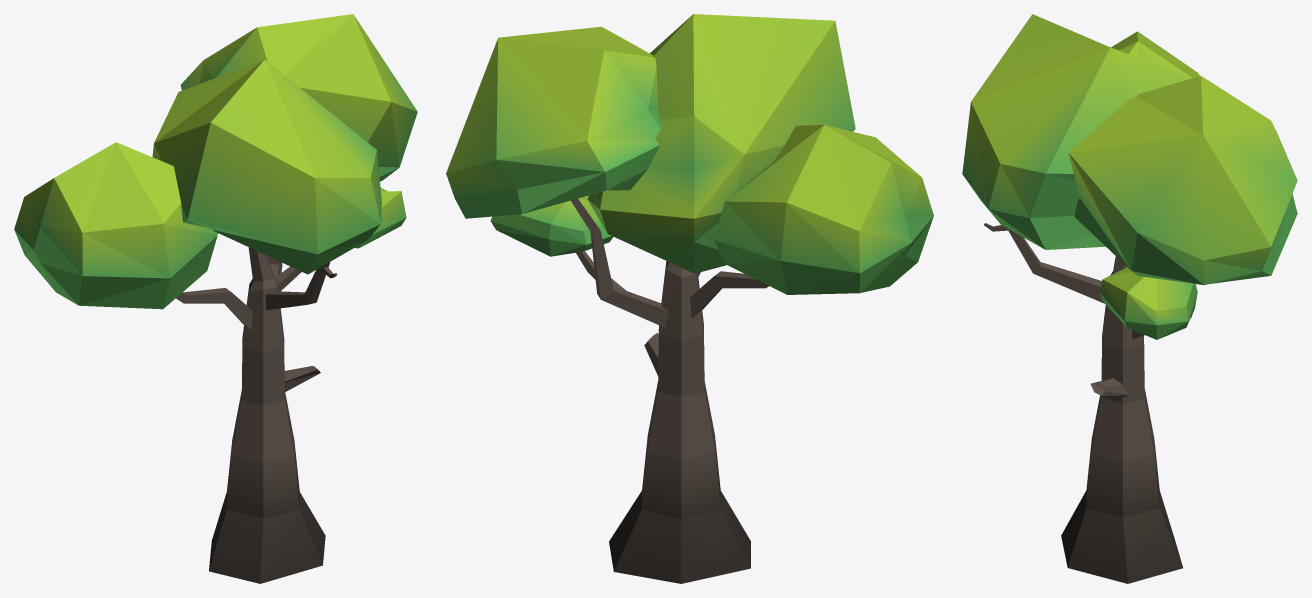
Rendered from tree_1.FBX.
3 renders of one model, left to right at view 1: azimuth 30°, elevation 25°; view 2: azimuth 150°, elevation 25°; view 3: azimuth 270°, elevation 25°, orthographic. The views are drawn at different scales.
Parts seen in each view (by area): view 1: tree_1; view 2: tree_1; view 3: tree_1.
Boxes of the visible parts, left/top/right/bottom form: tree_1: left=14, top=14, right=417, bottom=583; tree_1: left=446, top=14, right=933, bottom=583; tree_1: left=962, top=14, right=1297, bottom=583.
Size of the model in its own units: 237 by 295 by 178.
